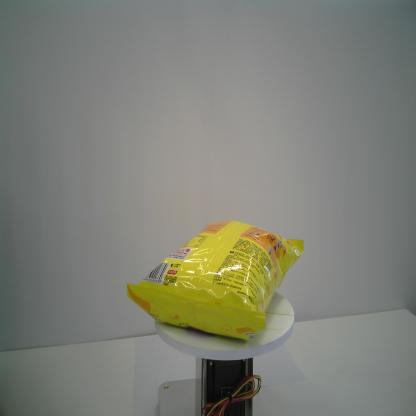Puffed Food: (126, 218, 306, 344)
